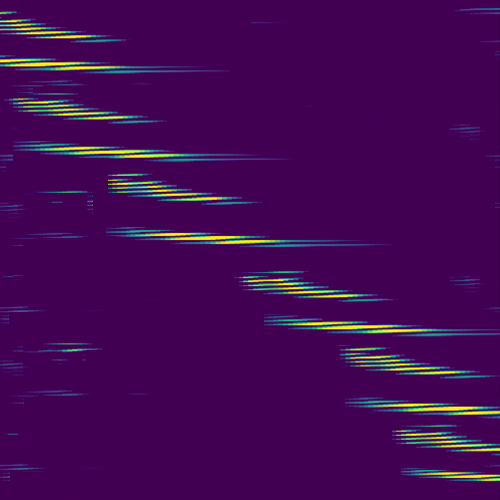semblance: (1, 9, 121, 45), (20, 137, 205, 160), (106, 171, 235, 203), (338, 344, 466, 376), (7, 94, 148, 122), (234, 273, 369, 300), (274, 314, 438, 335), (121, 226, 288, 245), (388, 426, 500, 454), (359, 397, 500, 419), (1, 53, 131, 73), (411, 469, 500, 484)
